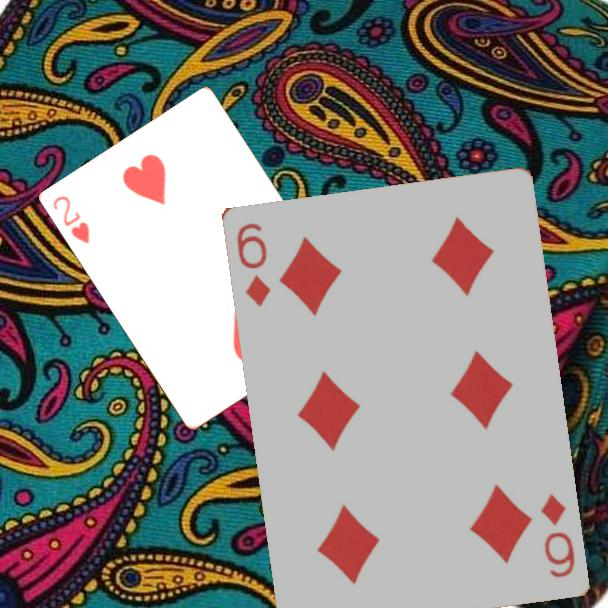d06: (536, 489, 577, 581), (232, 219, 273, 309)
h02: (50, 192, 93, 247)
